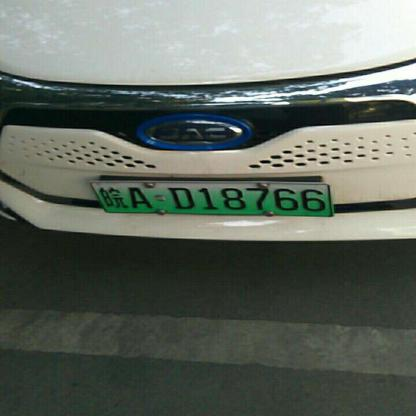lp: (90, 182, 331, 215)
